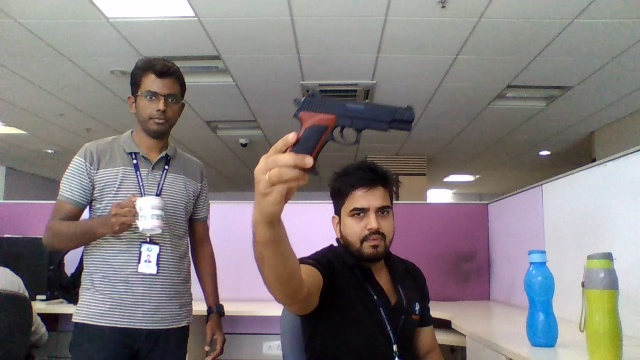gun: (294, 99, 413, 153)
